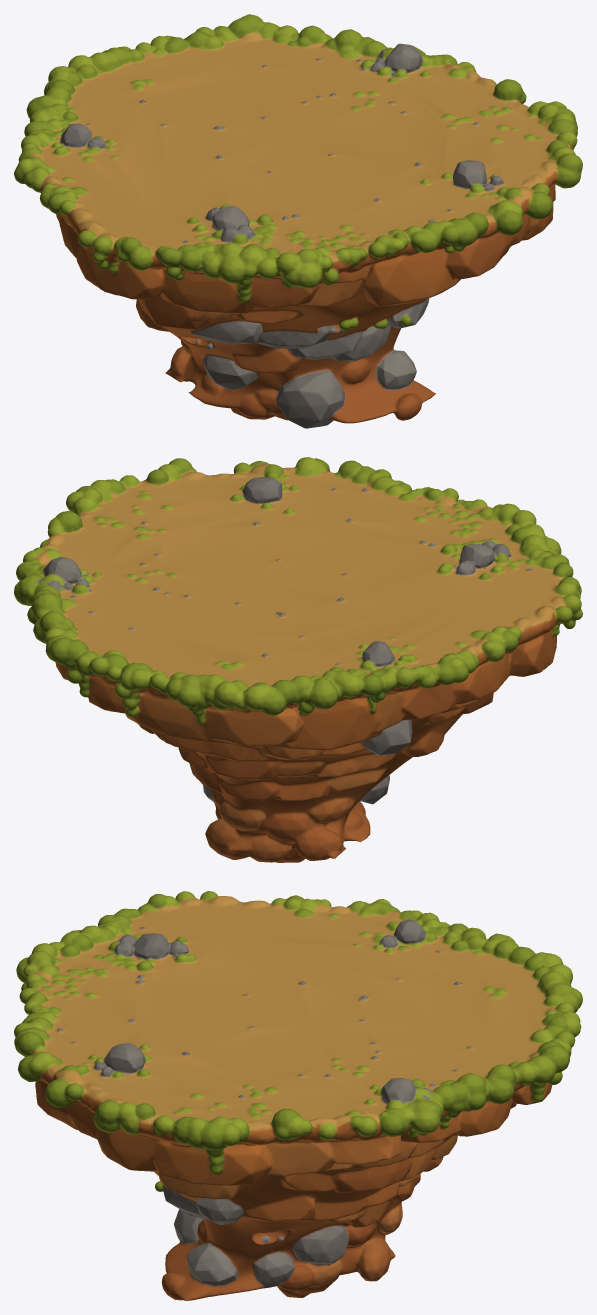
Rendered from IFK01_K1R3_A_M20MC.glb.
The picture shows the model from 3 angles, top to bottom: view 1: azimuth 30°, elevation 25°; view 2: azimuth 150°, elevation 25°; view 3: azimuth 270°, elevation 25°; orthographic projection. The views are drawn at different scales.
Parts seen in each view (by area): view 1: IFK01_K1R3_A; view 2: IFK01_K1R3_A; view 3: IFK01_K1R3_A.
Part boxes in pixels (x1=…): IFK01_K1R3_A: x1=14, y1=14, x2=582, y2=428; IFK01_K1R3_A: x1=14, y1=457, x2=582, y2=862; IFK01_K1R3_A: x1=14, y1=891, x2=582, y2=1300.
Size of the model in its own units: 137 by 77.54 by 133.
